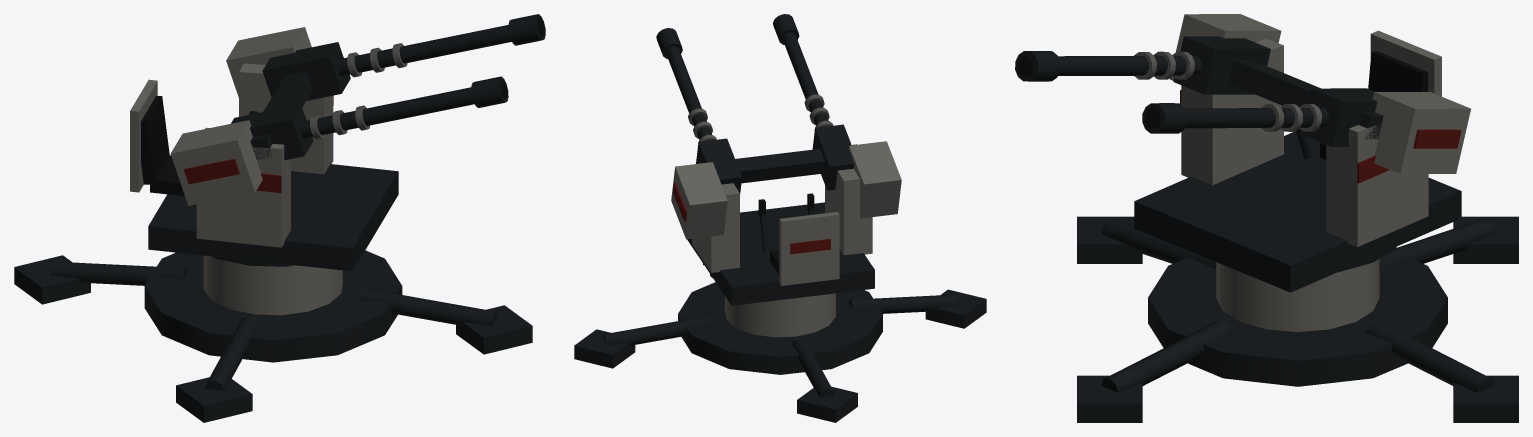
3 renders of one model, left to right at view 1: azimuth 30°, elevation 25°; view 2: azimuth 150°, elevation 25°; view 3: azimuth 270°, elevation 25°, orthographic. The views are drawn at different scales.
Visible parts, largest first — view 1: aa-gun-manned-fleet-machine, turret-fleet-machine, turret-fleet-armor, elevation-fleet-armor, aa-barrel-right-fleet-machine, aa-gun-manned-fleet-armor, aa-barrel-left-fleet-machine, turret-fleet-rubber, elevation-fleet-machine, elevation-fleet-red, aa-barrel-right-fleet-edge, aa-barrel-left-fleet-edge; view 2: aa-gun-manned-fleet-machine, turret-fleet-armor, turret-fleet-machine, elevation-fleet-armor, aa-gun-manned-fleet-armor, aa-barrel-left-fleet-machine, aa-barrel-right-fleet-machine, elevation-fleet-machine, turret-fleet-red, turret-fleet-rubber, aa-barrel-left-fleet-edge, aa-barrel-right-fleet-edge; view 3: aa-gun-manned-fleet-machine, turret-fleet-machine, turret-fleet-armor, elevation-fleet-armor, aa-gun-manned-fleet-armor, aa-barrel-left-fleet-machine, aa-barrel-right-fleet-machine, elevation-fleet-machine, turret-fleet-rubber, aa-barrel-left-fleet-edge, aa-barrel-right-fleet-edge, elevation-fleet-red (+1 smaller).
Boxes of the visible parts, left/top/right/bottom form: aa-gun-manned-fleet-machine: left=14, top=250, right=532, bottom=422; turret-fleet-machine: left=148, top=164, right=398, bottom=271; turret-fleet-armor: left=130, top=63, right=333, bottom=247; elevation-fleet-armor: left=170, top=27, right=311, bottom=205; aa-barrel-right-fleet-machine: left=262, top=14, right=545, bottom=100; aa-gun-manned-fleet-armor: left=203, top=255, right=342, bottom=315; aa-barrel-left-fleet-machine: left=231, top=76, right=508, bottom=160; turret-fleet-rubber: left=141, top=96, right=258, bottom=196; elevation-fleet-machine: left=250, top=71, right=312, bottom=159; elevation-fleet-red: left=184, top=158, right=239, bottom=184; aa-barrel-right-fleet-edge: left=347, top=43, right=407, bottom=77; aa-barrel-left-fleet-edge: left=310, top=105, right=370, bottom=139; aa-gun-manned-fleet-machine: left=574, top=263, right=986, bottom=422; turret-fleet-armor: left=692, top=168, right=872, bottom=285; turret-fleet-machine: left=687, top=202, right=874, bottom=305; elevation-fleet-armor: left=671, top=141, right=901, bottom=239; aa-gun-manned-fleet-armor: left=725, top=293, right=835, bottom=337; aa-barrel-left-fleet-machine: left=773, top=14, right=854, bottom=190; aa-barrel-right-fleet-machine: left=656, top=28, right=741, bottom=193; elevation-fleet-machine: left=696, top=144, right=856, bottom=183; turret-fleet-red: left=790, top=238, right=830, bottom=254; turret-fleet-rubber: left=758, top=193, right=814, bottom=274; aa-barrel-left-fleet-edge: left=804, top=94, right=833, bottom=129; aa-barrel-right-fleet-edge: left=688, top=108, right=716, bottom=141; aa-gun-manned-fleet-machine: left=1077, top=216, right=1518, bottom=422; turret-fleet-machine: left=1134, top=128, right=1461, bottom=292; turret-fleet-armor: left=1181, top=30, right=1441, bottom=246; elevation-fleet-armor: left=1169, top=14, right=1470, bottom=173; aa-gun-manned-fleet-armor: left=1216, top=258, right=1379, bottom=331; aa-barrel-left-fleet-machine: left=1015, top=36, right=1270, bottom=94; aa-barrel-right-fleet-machine: left=1142, top=88, right=1377, bottom=146; elevation-fleet-machine: left=1229, top=60, right=1383, bottom=139; turret-fleet-rubber: left=1320, top=51, right=1428, bottom=159; aa-barrel-left-fleet-edge: left=1134, top=51, right=1194, bottom=79; aa-barrel-right-fleet-edge: left=1261, top=104, right=1321, bottom=131; elevation-fleet-red: left=1413, top=129, right=1461, bottom=148.
Size of the model in its own units: 19.28 by 14.29 by 19.13.
